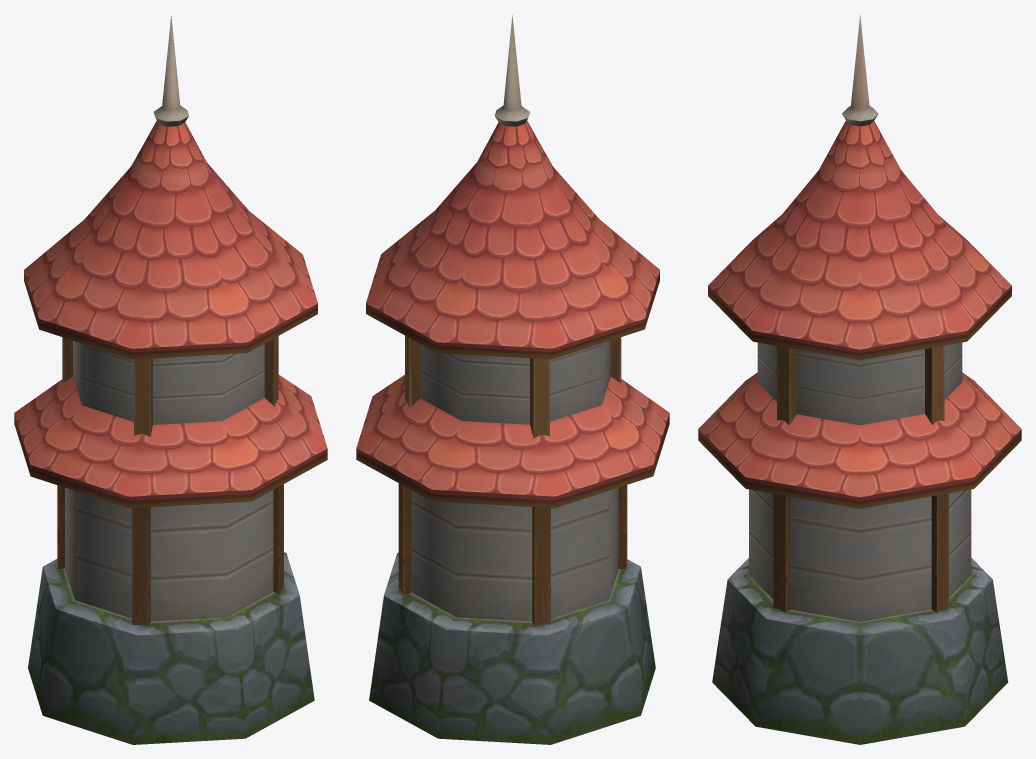
File: scene_lawennushandao_building03b.FBX
The picture shows the model from 3 angles, left to right: view 1: azimuth 30°, elevation 25°; view 2: azimuth 150°, elevation 25°; view 3: azimuth 270°, elevation 25°; orthographic projection.
Parts seen in each view (by area): view 1: scene_lawennushandao_building03b; view 2: scene_lawennushandao_building03b; view 3: scene_lawennushandao_building03b.
Part boxes in pixels (box(x1,y1,x2,y2)): scene_lawennushandao_building03b: box(14, 15, 327, 744); scene_lawennushandao_building03b: box(356, 15, 669, 744); scene_lawennushandao_building03b: box(698, 15, 1021, 744).
Bounding box in the file's own units: 360 × 821 × 360.
